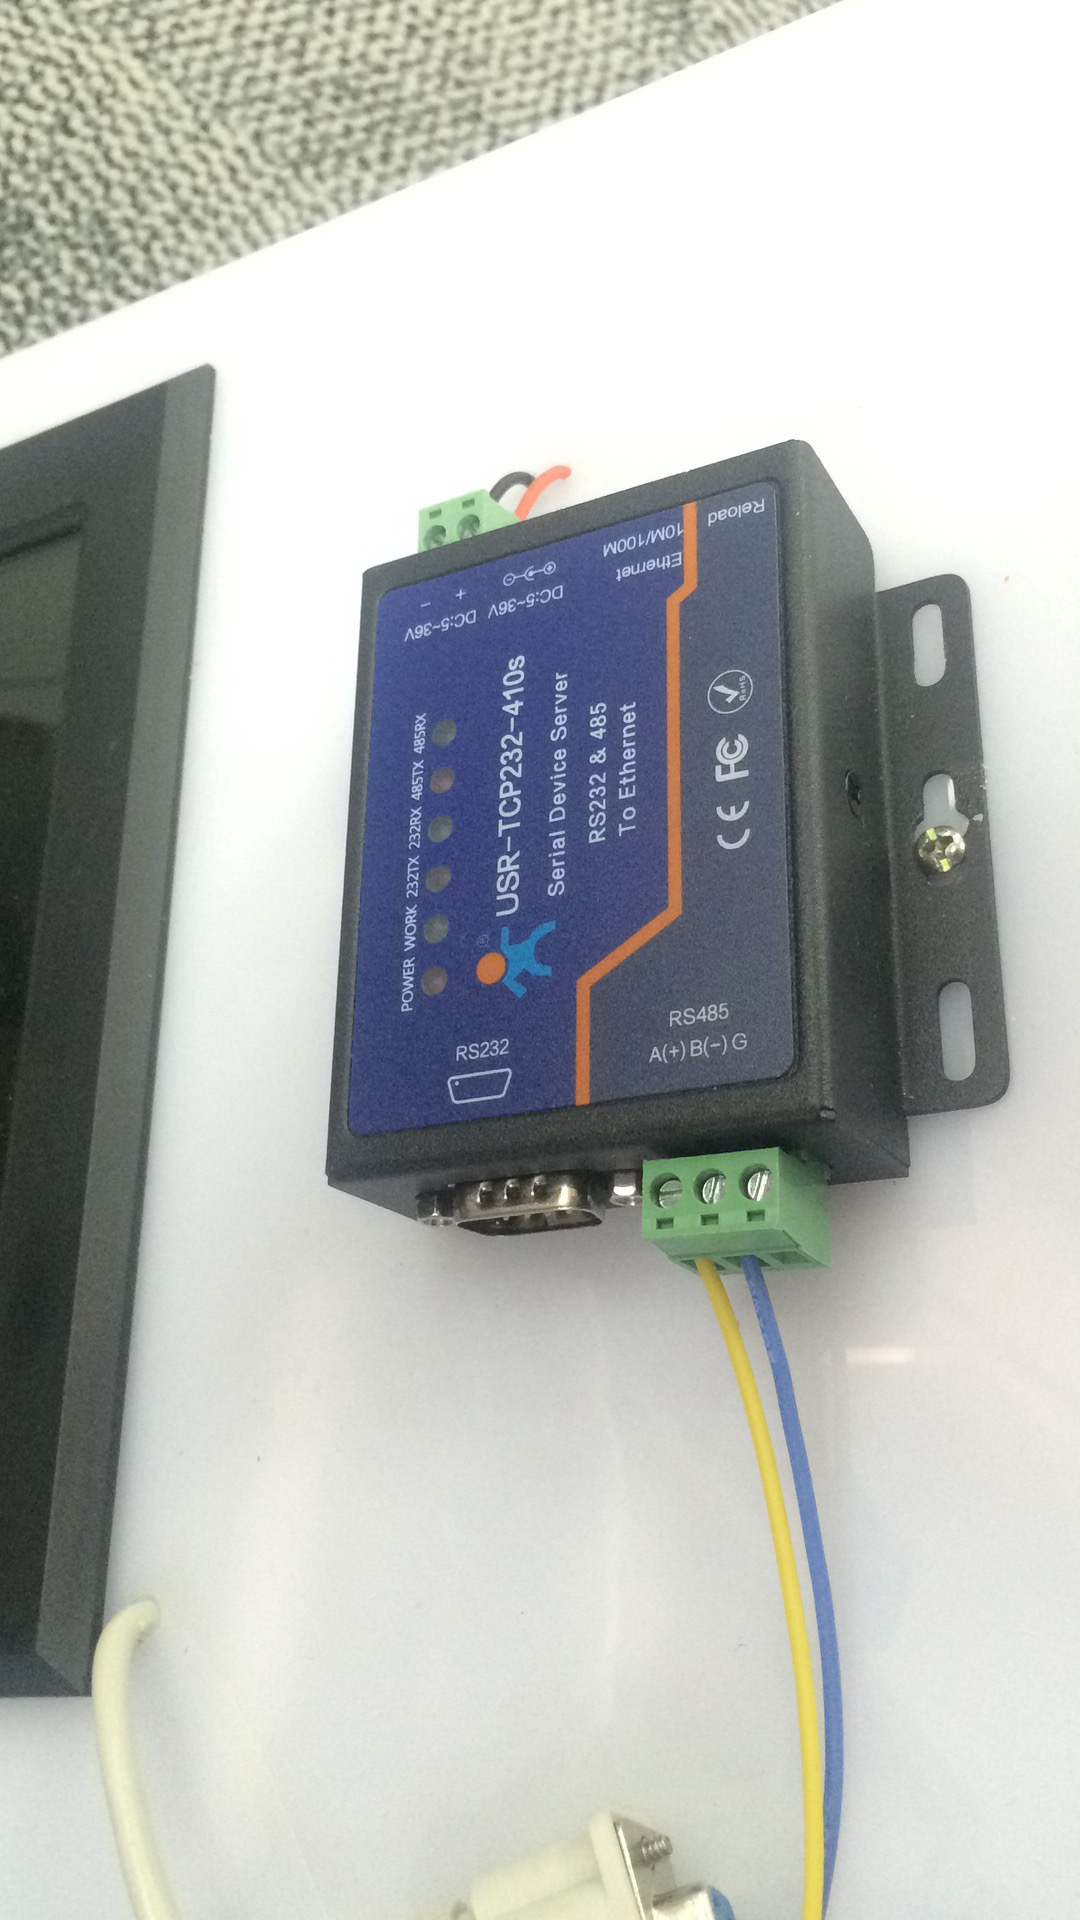modbus bridge: (301, 434, 1033, 1296)
